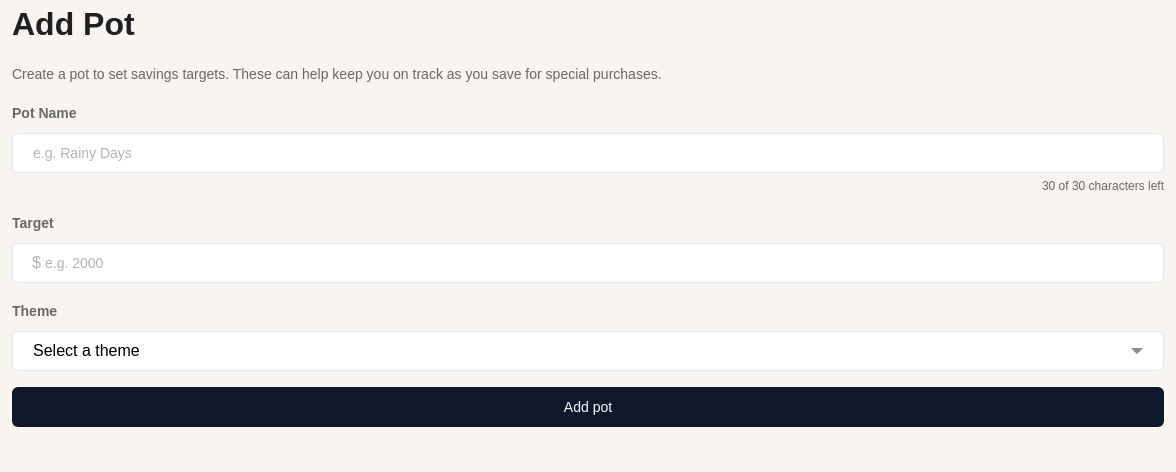
Test: GeneralForm (pot) › rejects a non-numeric target
Type "Trip" into the field with placeholder "e.g. Rainy Days" at [588, 153], box [12,133,1164,173]
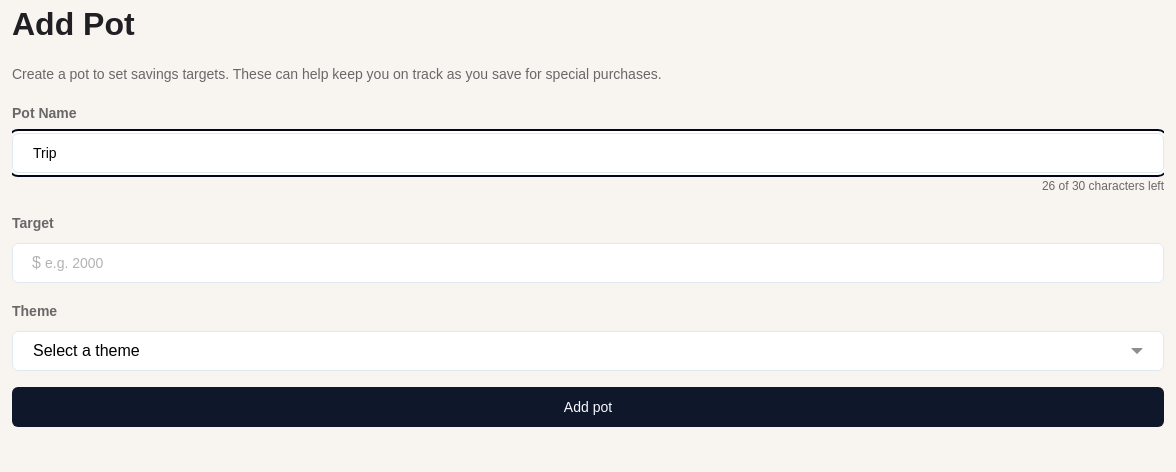
Type "abc" into the field with placeholder "e.g. 2000" at [588, 263], box [12,243,1164,283]
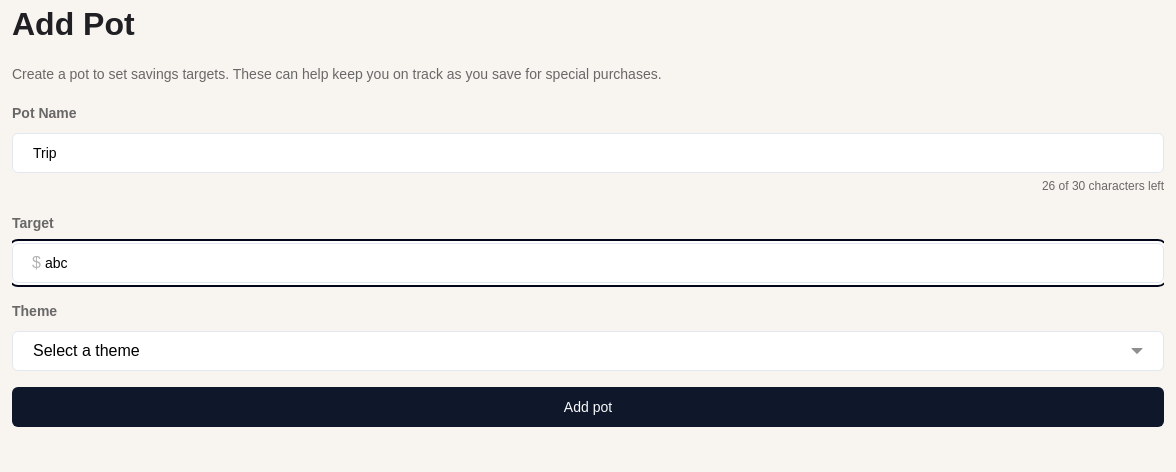
Click the button "Add pot" at [588, 407], box [12,387,1164,427]
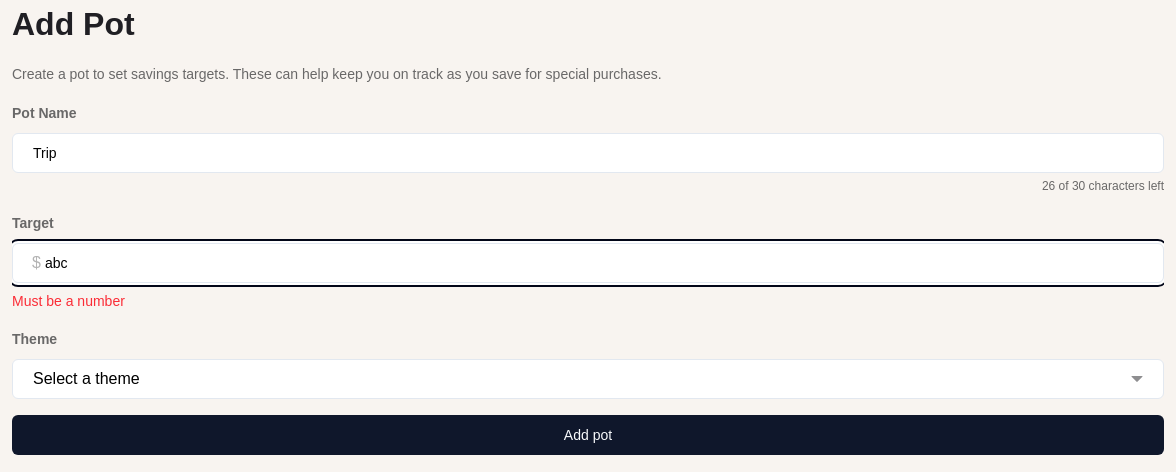
Now the text "Must be a number" is shown, box [12,293,125,309]
